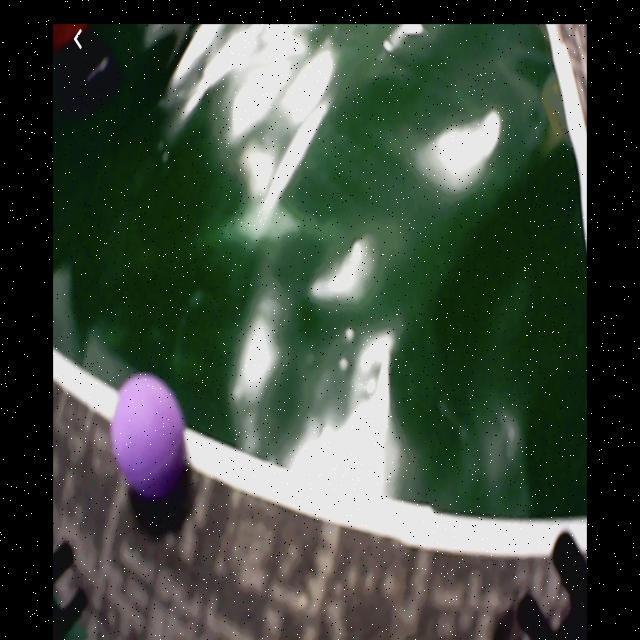ball: (113, 375, 189, 500)
